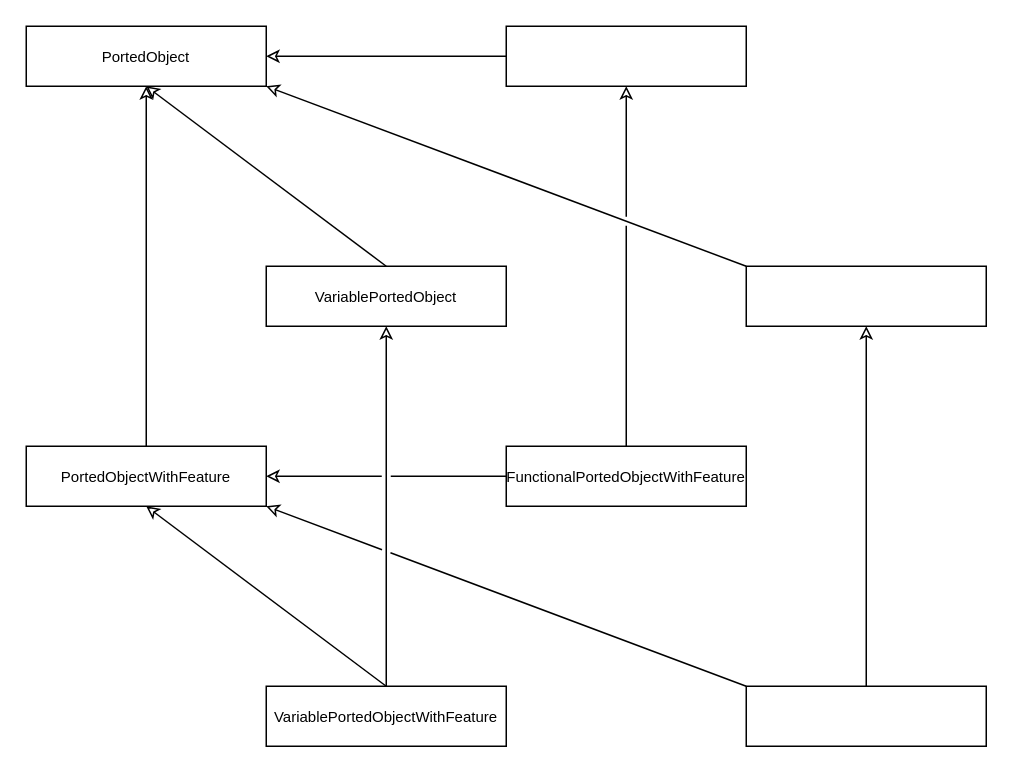
This 1013x773 diagram has some shape labels left out. The box of each missing label's shape, as (x1, y1, x2, y2) in pixels:
Composite PortedObjectWithFeature: (745, 685, 986, 746)
CompositePortedObject: (745, 265, 986, 326)
FunctionalPortedObject: (505, 25, 746, 86)
